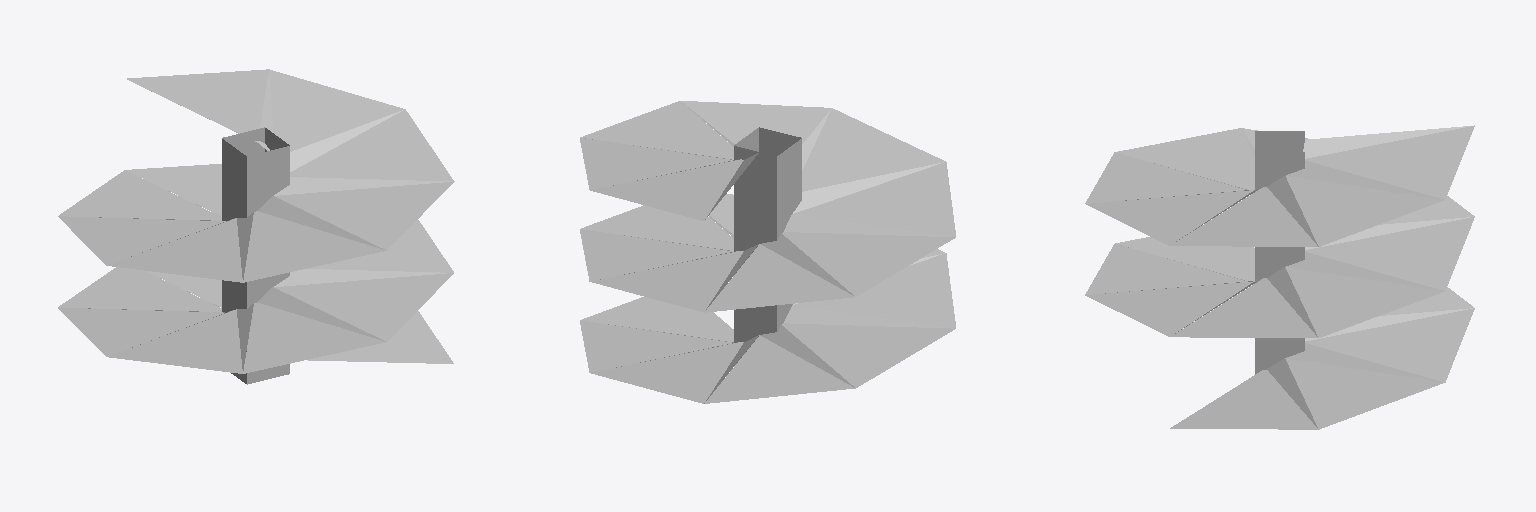
Rendered from corkscrew.obj.
3 renders of one model, left to right at view 1: azimuth 30°, elevation 25°; view 2: azimuth 150°, elevation 25°; view 3: azimuth 270°, elevation 25°, orthographic.
Size of the model in its own units: 15.5 by 10 by 15.5.